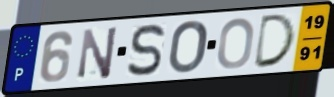6: (38, 29, 74, 84)
D: (251, 12, 298, 71)
N: (76, 25, 120, 81)
O: (167, 19, 210, 76), (215, 16, 256, 71)
S: (124, 22, 167, 79)
